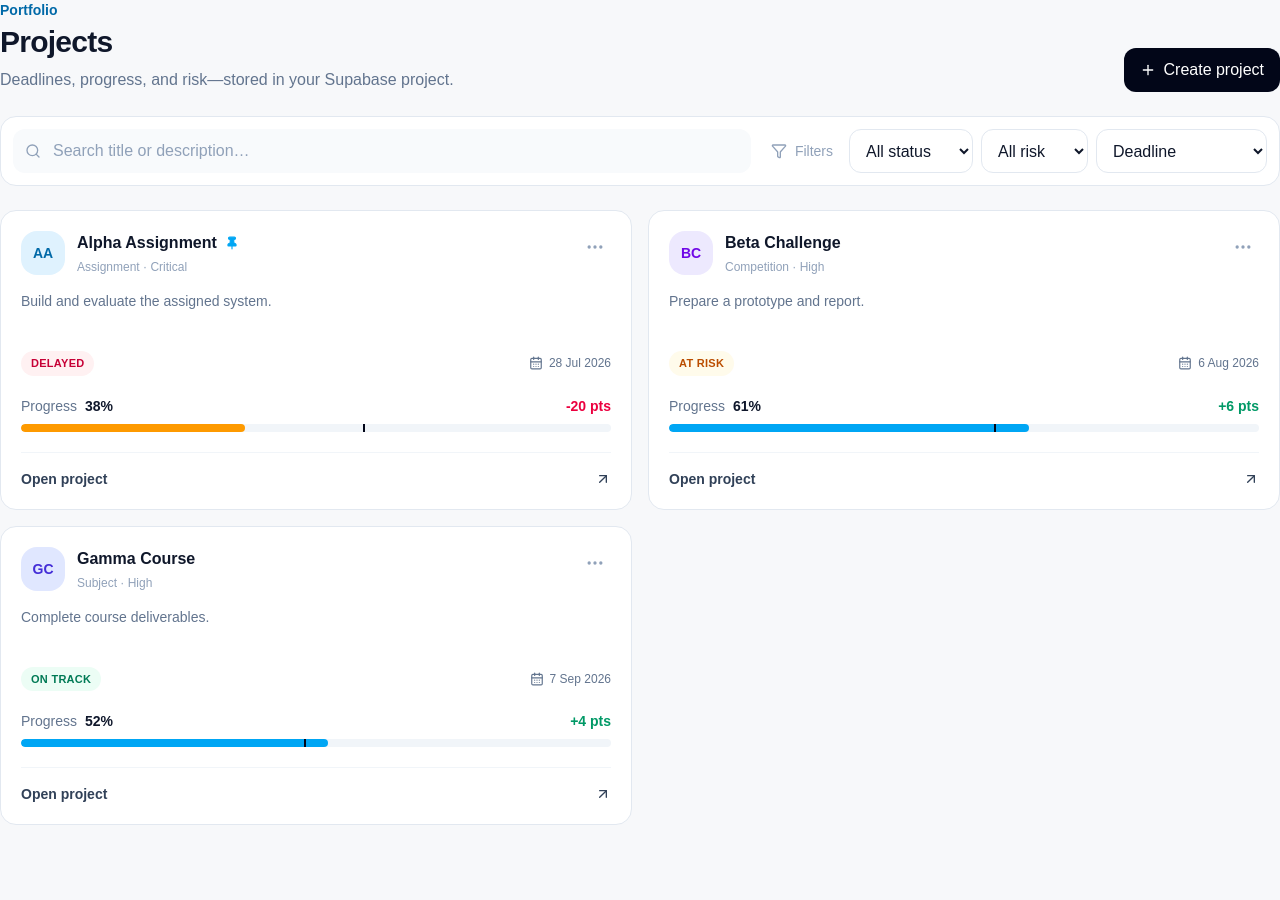
Test case: Projects › persists a new project through the API client
Click the button "Create project": (1202, 70) [1124,48,1279,92]
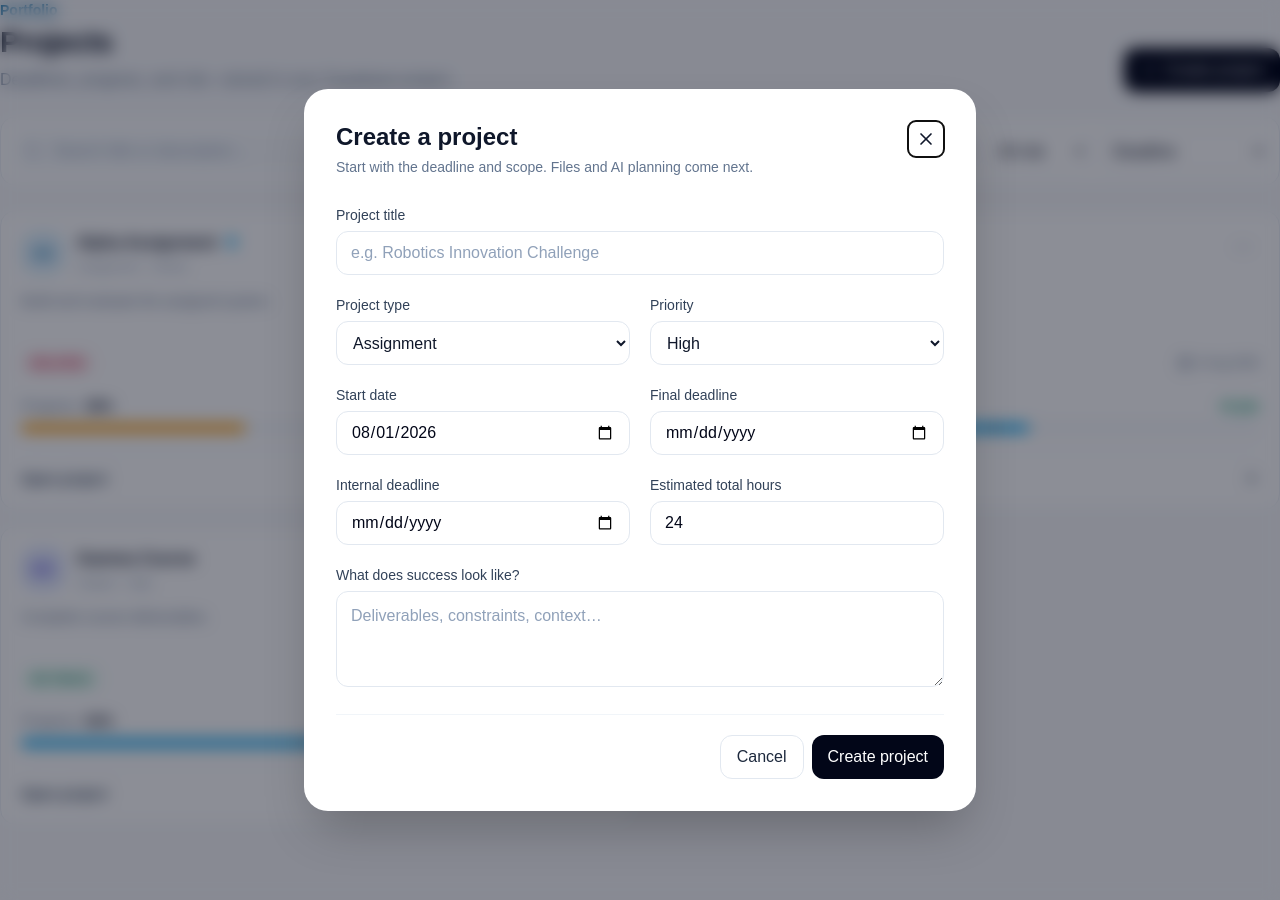
In the field labelled "Project title": (640, 253) [336,231,944,275], type "New Robotics Sprint"
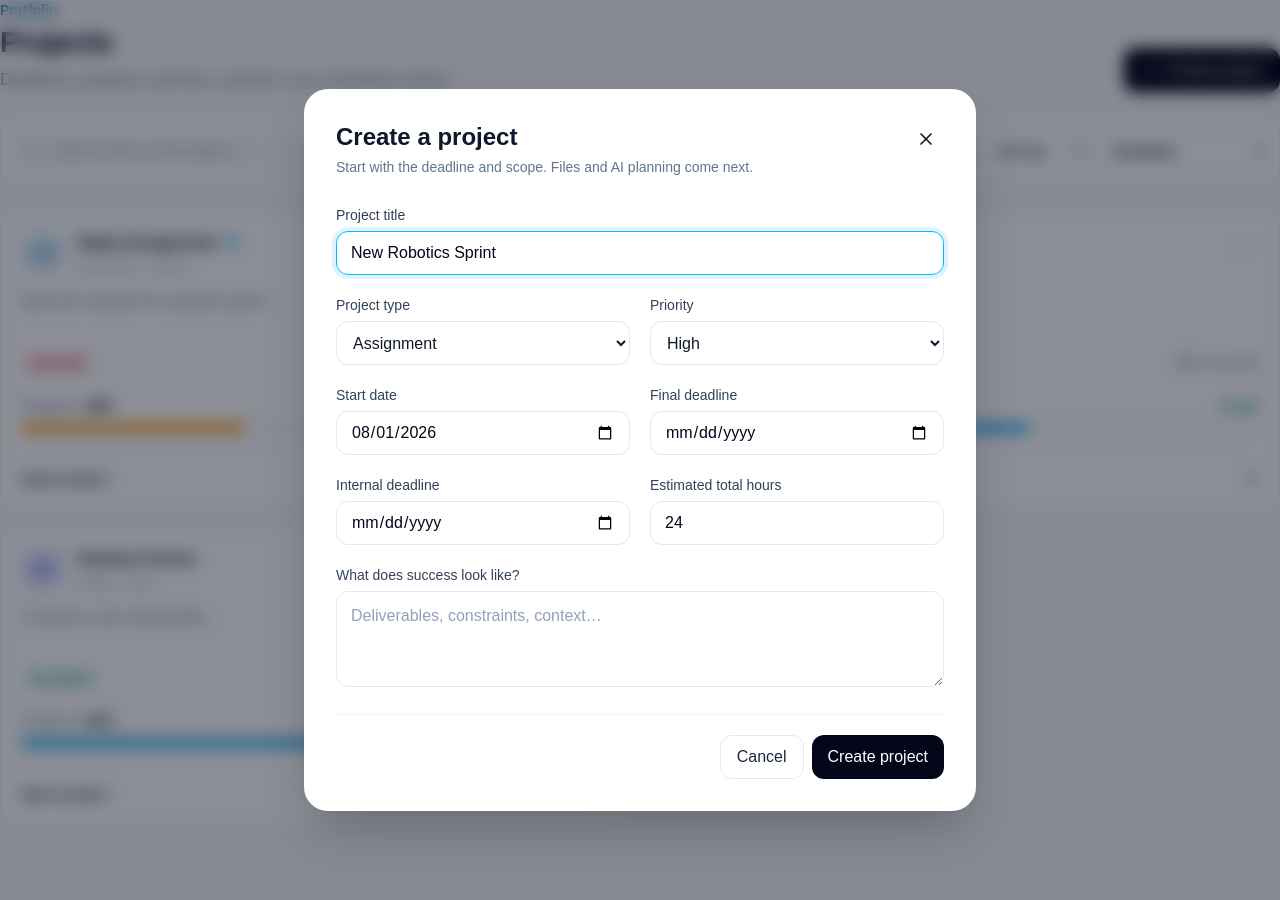
In the date field labelled "Final deadline": (797, 433) [650,411,944,455], type "2026-08-19"
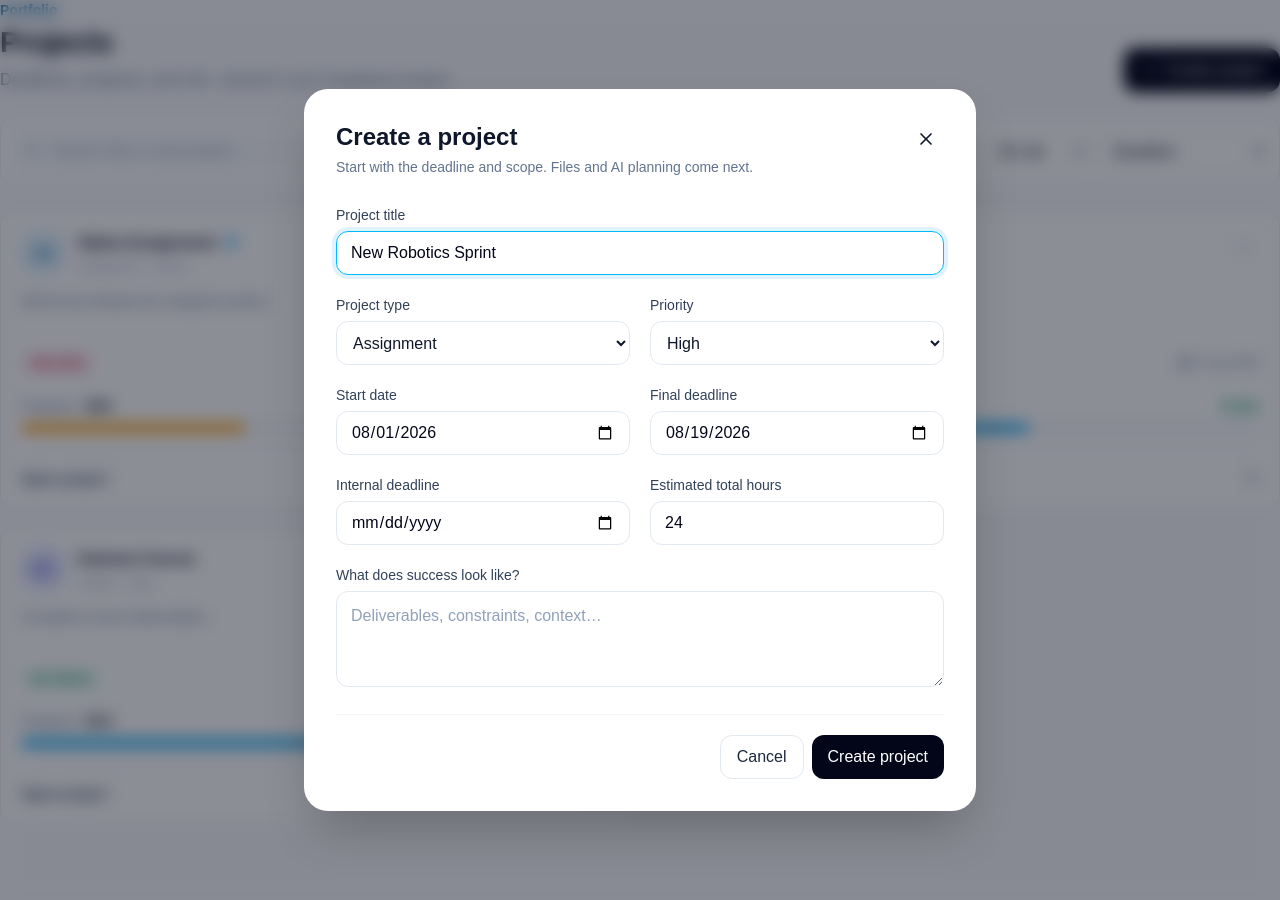
In the text box labelled "What does success look like?": (640, 639) [336,591,944,687], type "Working prototype and report"
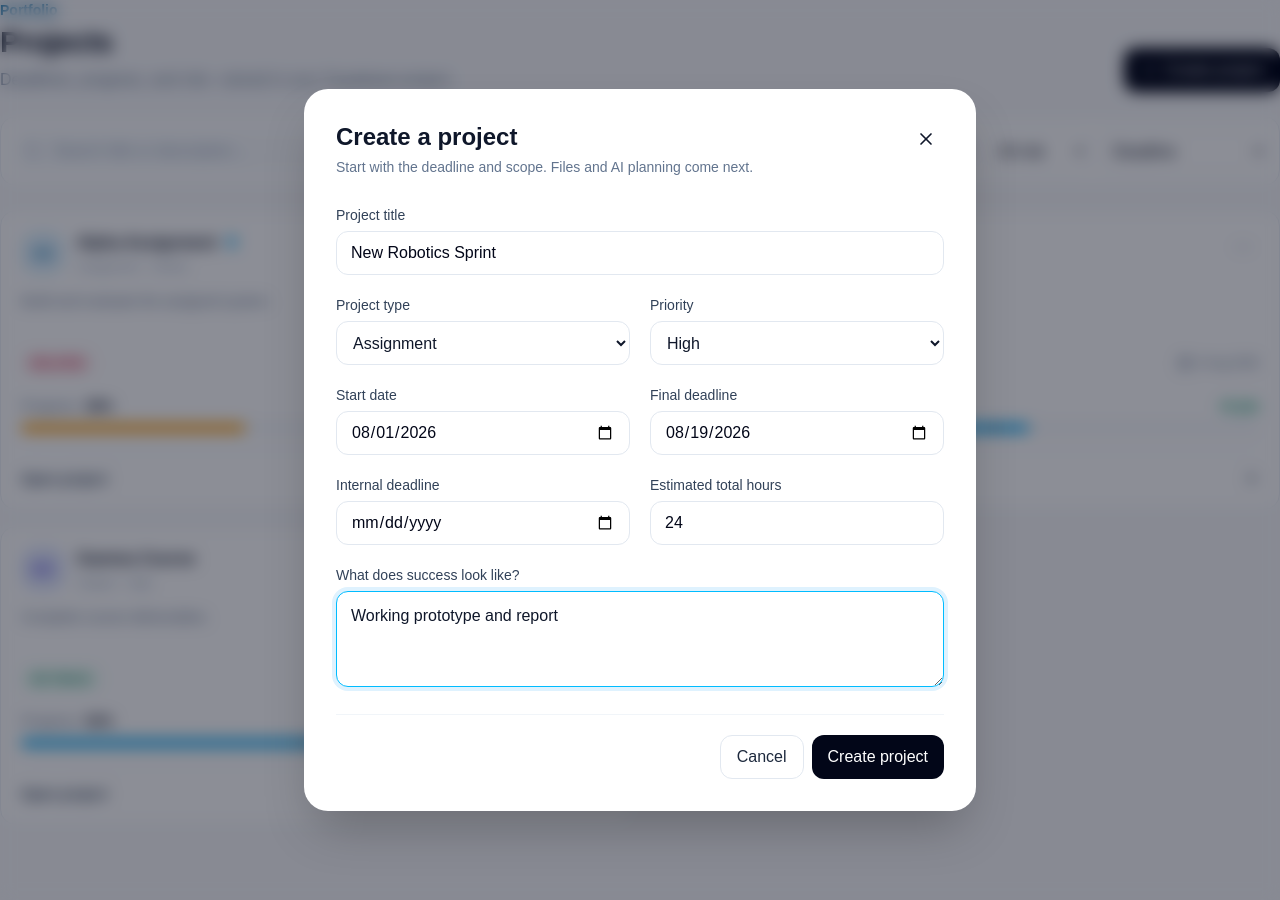
Click the button "Create project": (878, 757) [812,735,944,779]
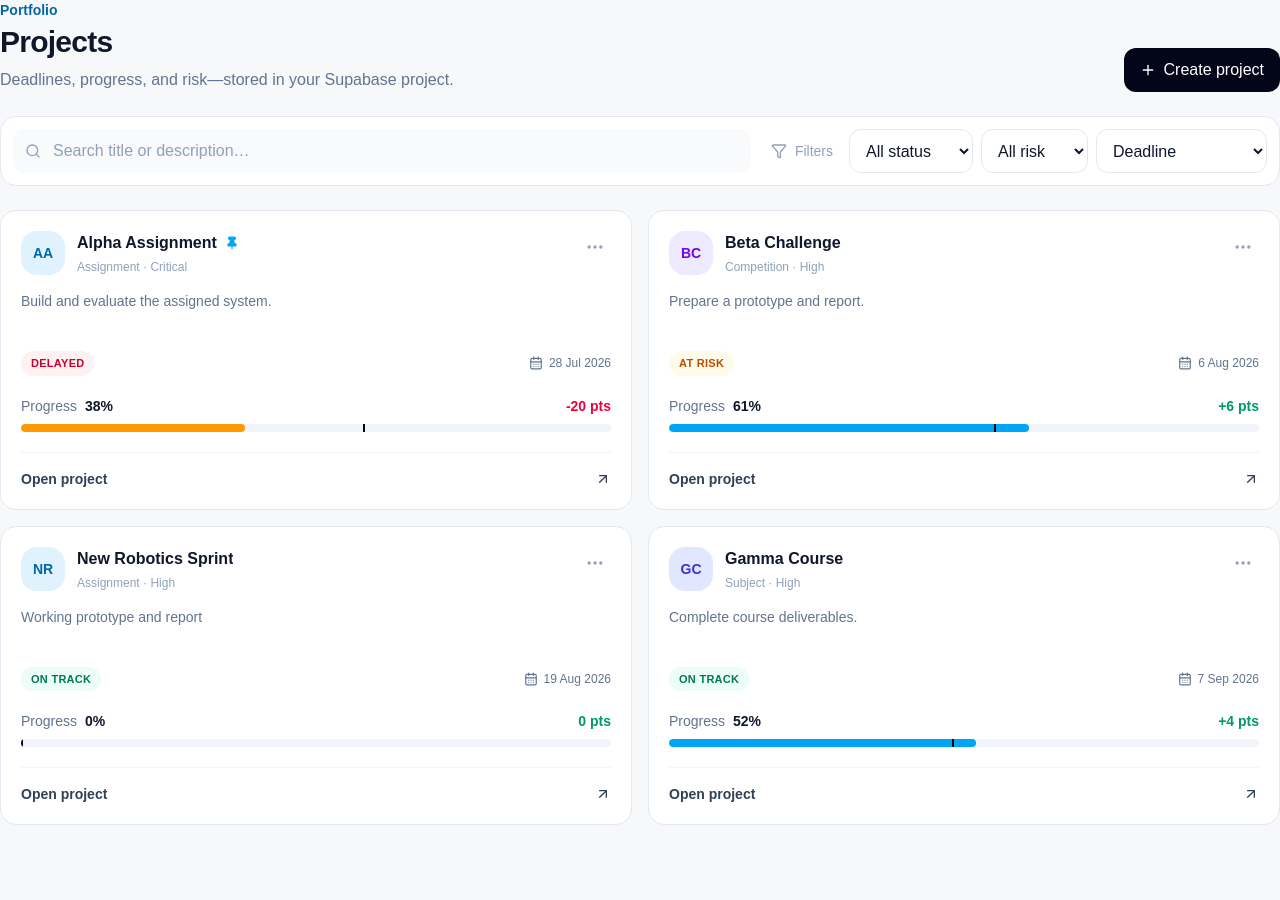
Check: the heading "New Robotics Sprint" is shown, box [77,546,234,570]
